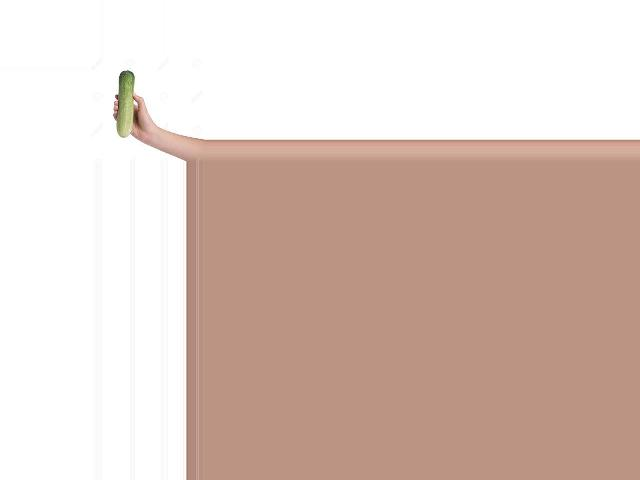cucumber: (117, 70, 136, 138)
